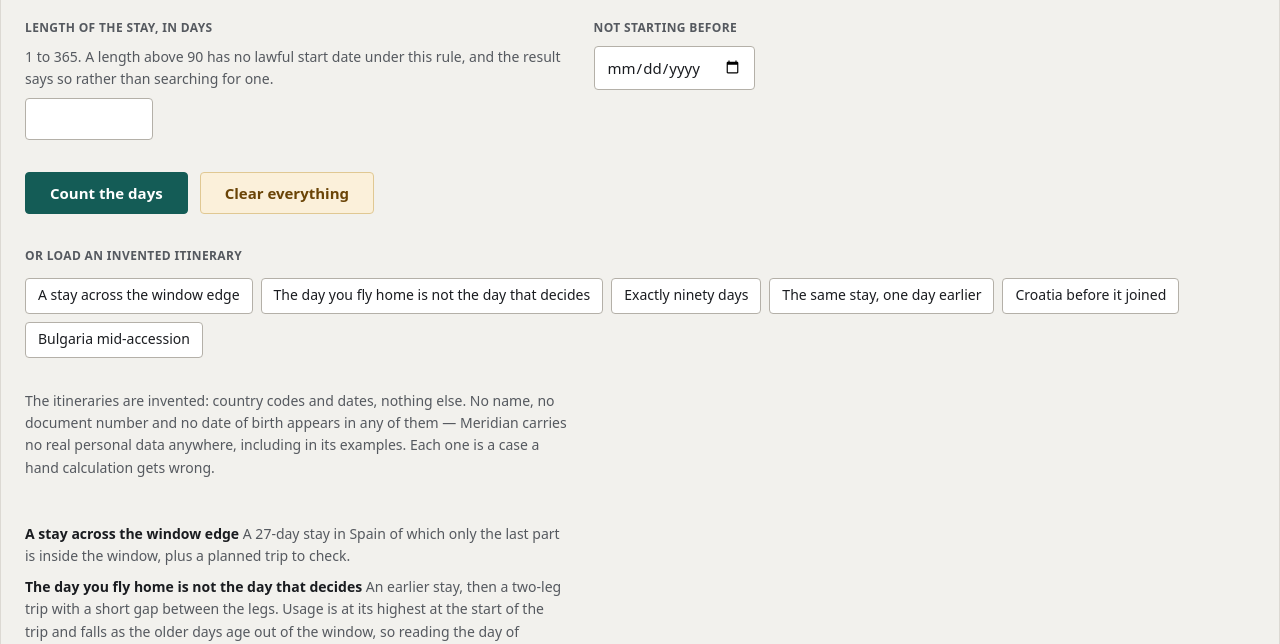
the worst day of a range › explains why the last day is the wrong day to check
(page scrolled)
Click the button "The day you fly home is not the day that decides" at [432, 296], box [260,278,603,314]
(page scrolled)
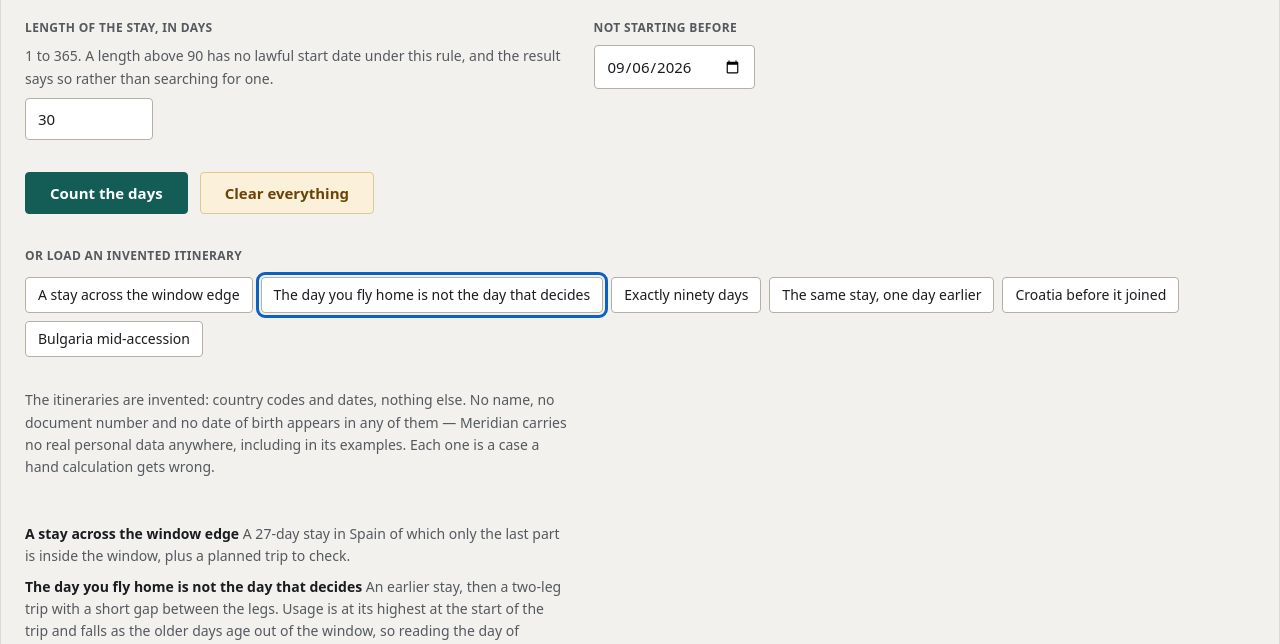
Click the button "Count the days" at [106, 193], box [25,172,188,214]
(page scrolled)
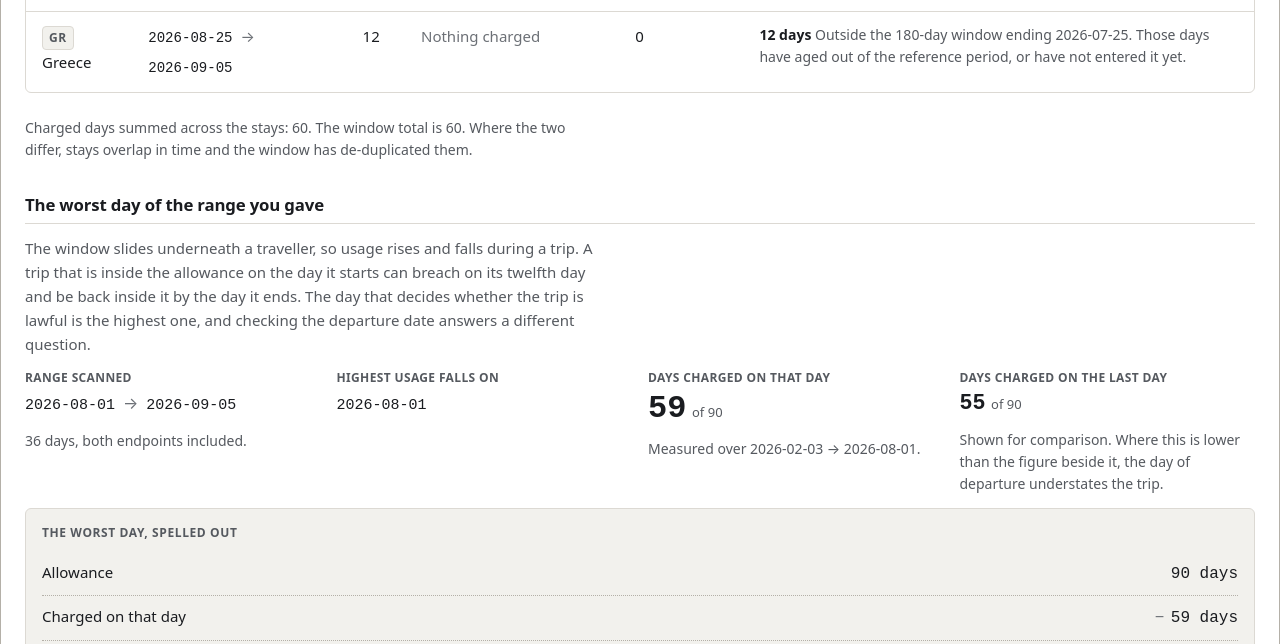
Now the text "can breach on its twelfth day" is shown, box [25,238,593,354]
